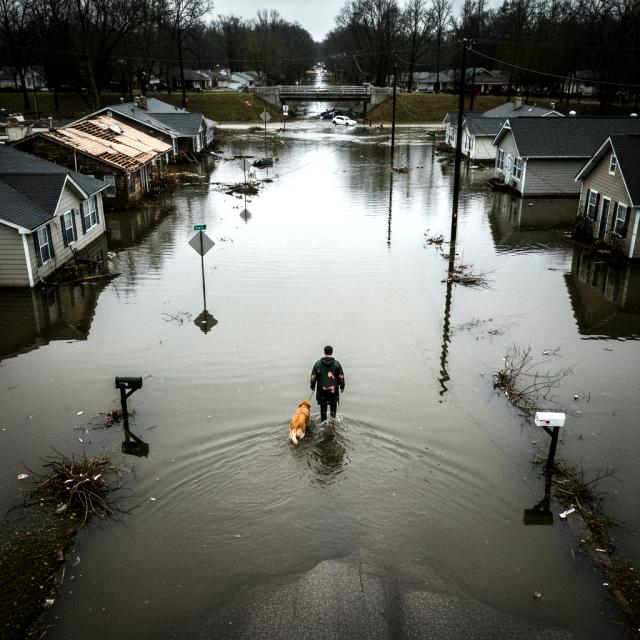civilian: (310, 339, 351, 424)
dog: (281, 394, 319, 452)
